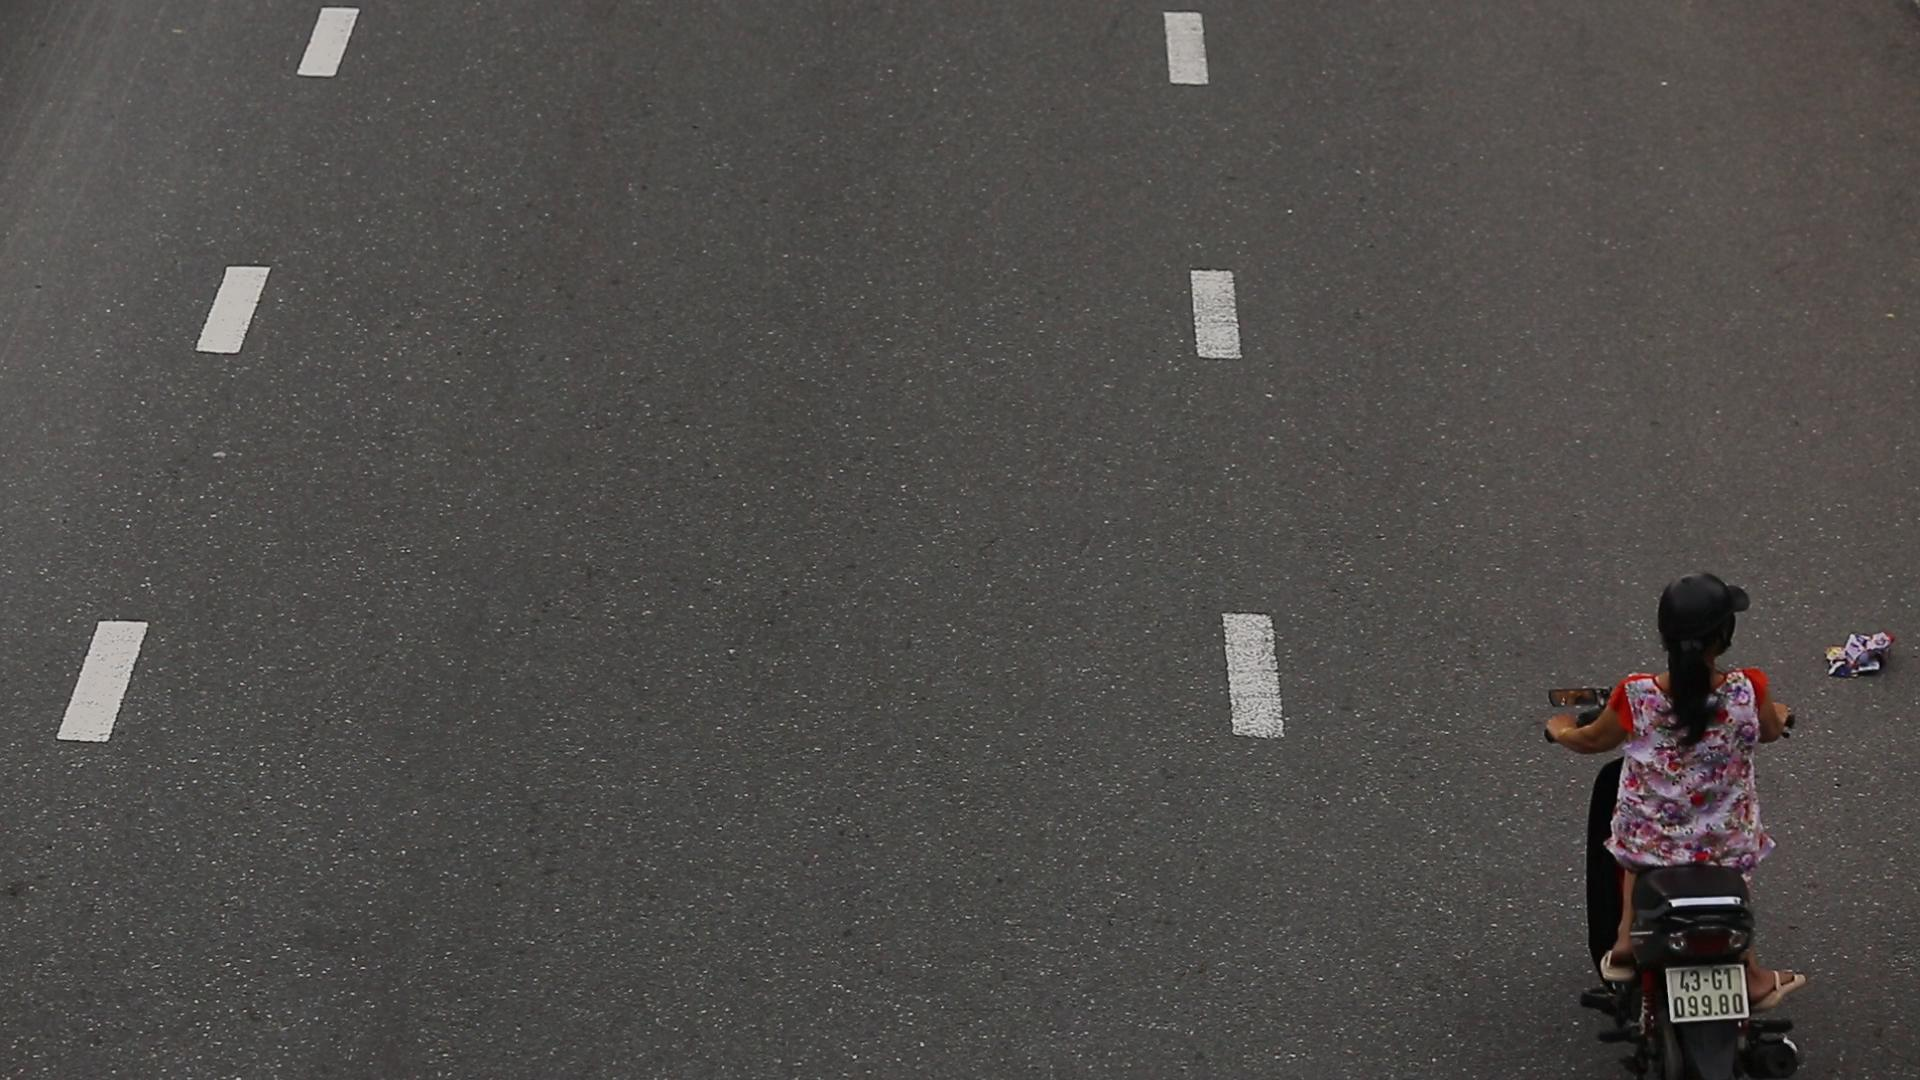motobike: (1501, 543, 1905, 1080)
